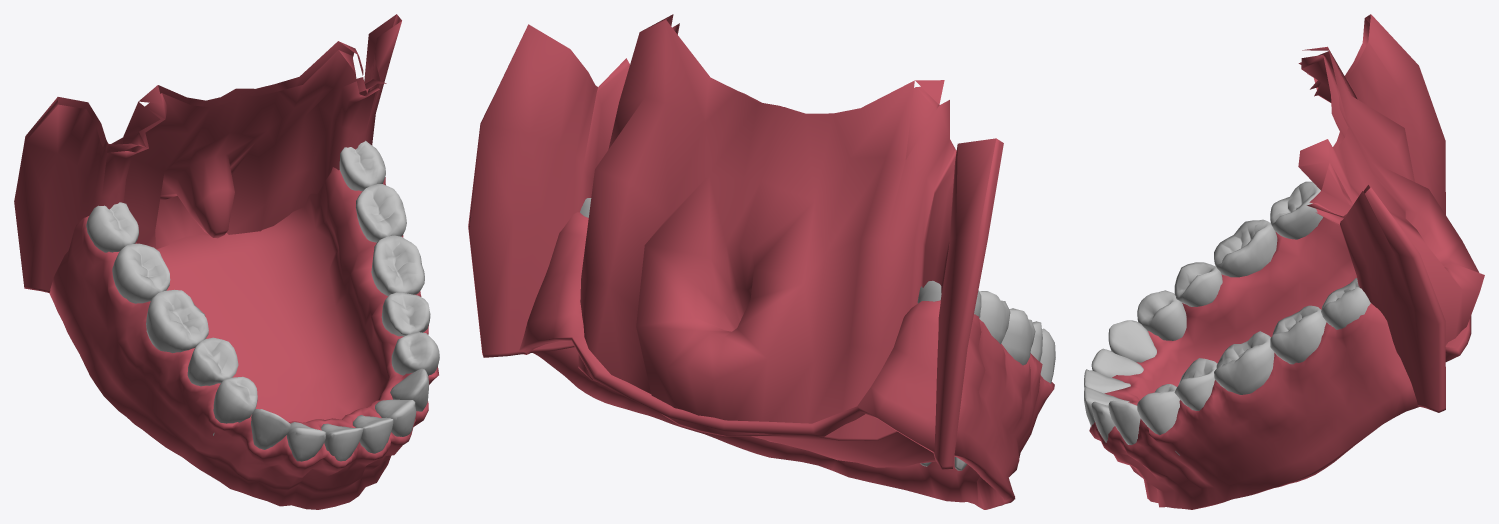
The model's file is lower-mouth.glb.
The picture shows the model from 3 angles, left to right: view 1: azimuth 30°, elevation 25°; view 2: azimuth 150°, elevation 25°; view 3: azimuth 270°, elevation 25°; orthographic projection. The views are drawn at different scales.
Parts seen in each view (by area): view 1: below_gum_m, upper_gum_m, lower_teeth.001; view 2: upper_gum_m, below_gum_m, lower_teeth.001; view 3: below_gum_m, upper_gum_m, lower_teeth.001.
Part boxes in pixels (x1,y1,x2,y2): below_gum_m: (49, 167, 438, 509); upper_gum_m: (14, 14, 401, 293); lower_teeth.001: (86, 140, 439, 461); upper_gum_m: (468, 14, 1003, 469); below_gum_m: (519, 212, 1054, 509); lower_teeth.001: (580, 198, 1055, 470); below_gum_m: (1089, 217, 1471, 509); upper_gum_m: (1298, 14, 1484, 412); lower_teeth.001: (1084, 181, 1370, 455).
Size of the model in its own units: 5.28 by 5.23 by 4.77.
